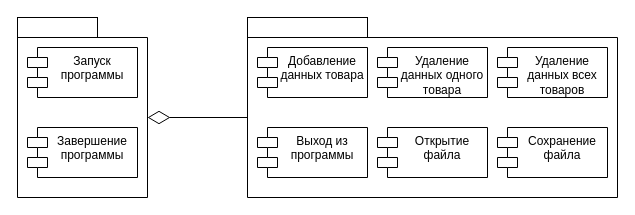
The diagram is 635 pixels wide and 215 high, and some of its shapes have lost their labels. The shapes that lost their labels are listed below. From the top down, each one's box as (x1, y1, x2, y2) in pixels, then its label:
(16, 16, 98, 38): Система
(246, 16, 368, 38): Пользователь
